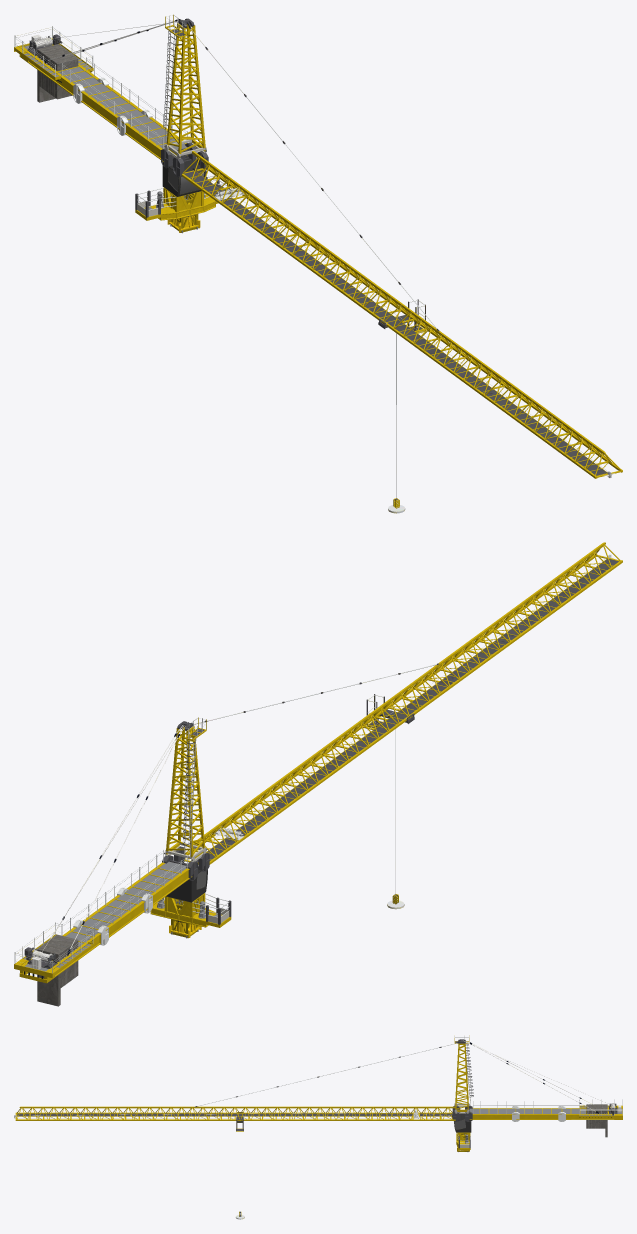
File: v5crane.glb
3 renders of one model, top to bottom at view 1: azimuth 30°, elevation 25°; view 2: azimuth 150°, elevation 25°; view 3: azimuth 270°, elevation 25°, orthographic. The views are drawn at different scales.
Visible parts, largest first — view 1: cr_top; view 2: cr_top; view 3: cr_top.
Boxes of the visible parts, x1=… form: cr_top: x1=14, y1=14, x2=622, y2=513; cr_top: x1=14, y1=542, x2=622, y2=1006; cr_top: x1=14, y1=1035, x2=622, y2=1219.
Bounding box in the file's own units: 8.58 × 33.31 × 103.
6 materials, 6 textured.
